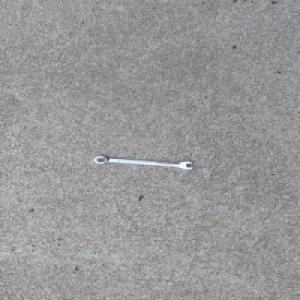Wrench: (91, 155, 195, 170)
